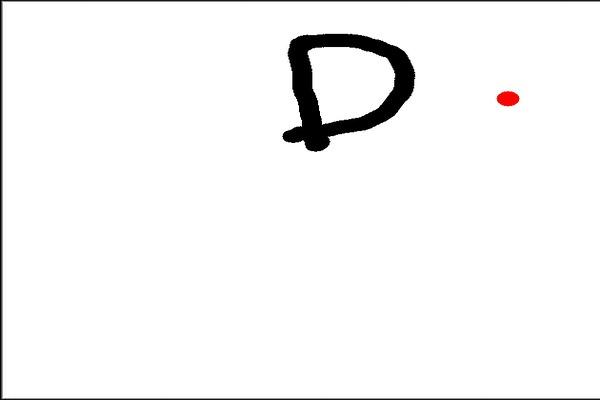D: (276, 28, 417, 157)
